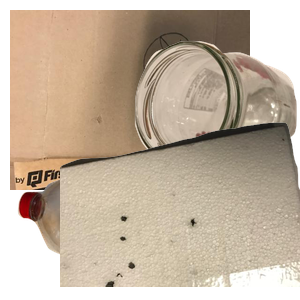cardboard: (10, 10, 250, 190)
glass: (132, 38, 300, 199)
plastic: (15, 173, 222, 300)
trash: (60, 120, 300, 300)
